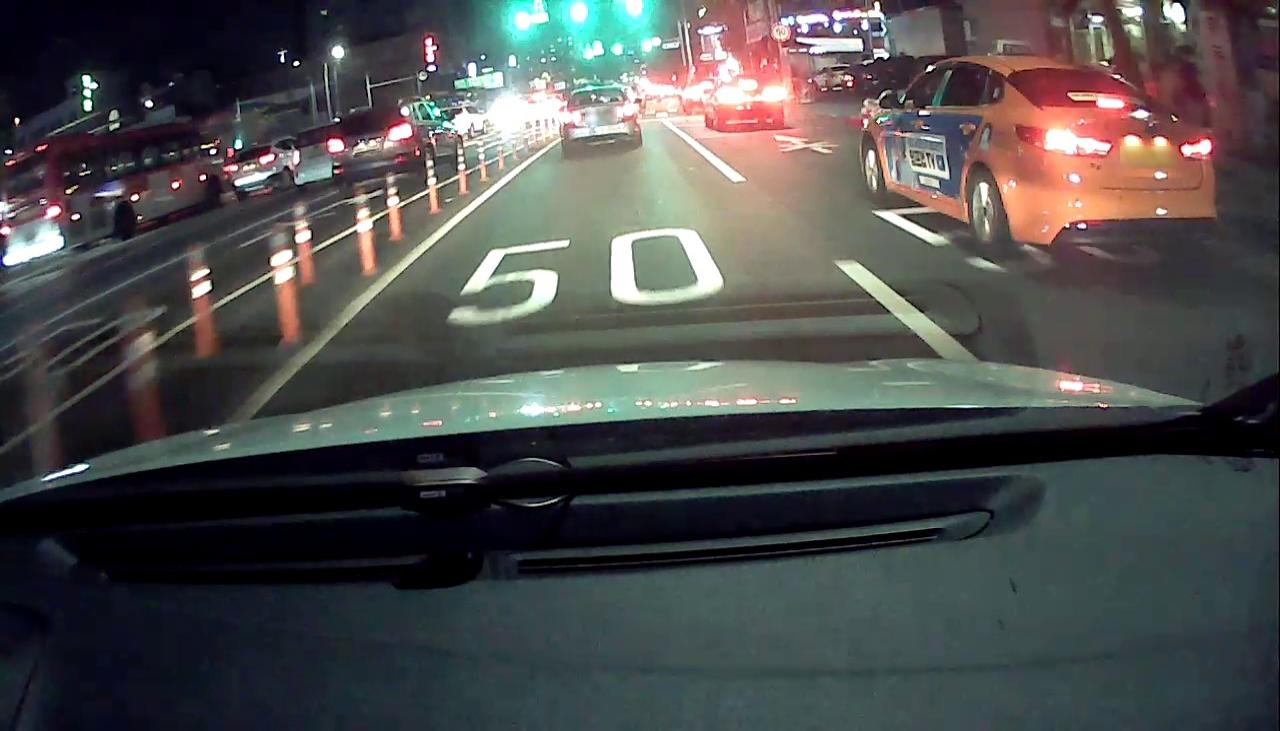Green Light: (568, 3, 590, 27), (511, 11, 533, 34), (623, 0, 645, 18)
